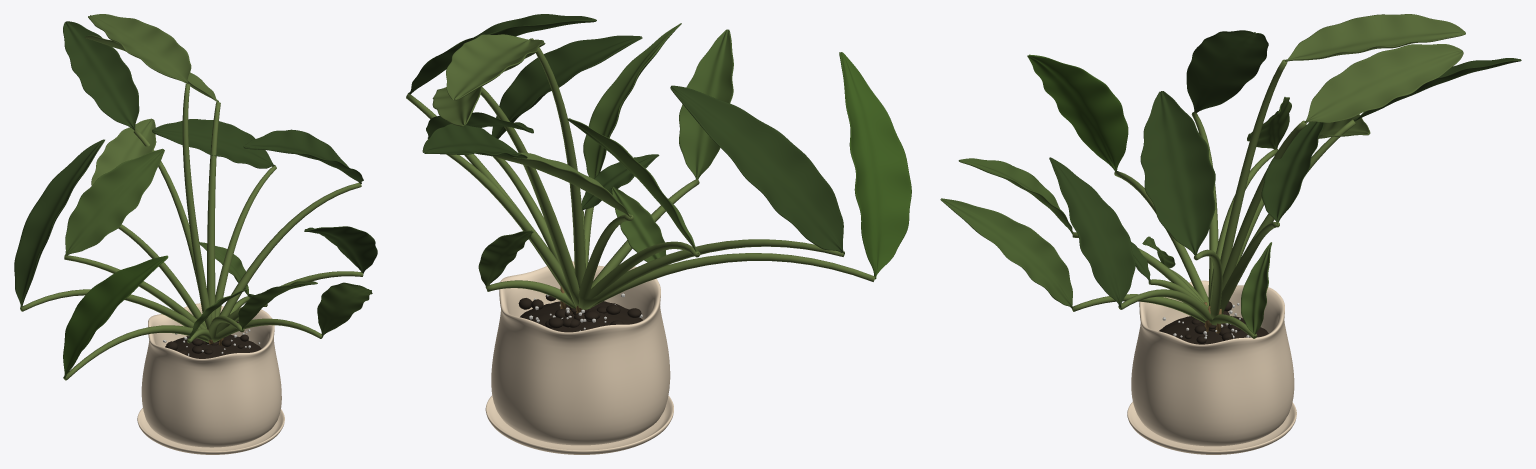
File: plant.glb
The picture shows the model from 3 angles, left to right: view 1: azimuth 30°, elevation 25°; view 2: azimuth 150°, elevation 25°; view 3: azimuth 270°, elevation 25°; orthographic projection. The views are drawn at different scales.
Parts seen in each view (by area): view 1: Pot, Leaf2, Leaf5, Leaf0, Leaf1, Leaf3, Leaf6, Leaf7, Stem3, Leaf11, Leaf9, Leaf8 (+16 smaller); view 2: Pot, Leaf0, Leaf1, Leaf8, Leaf10, Leaf3, Leaf9, Saucer, Stem0, Stem1, Leaf7, Leaf5 (+18 smaller); view 3: Pot, Leaf7, Leaf4, Leaf1, Leaf8, Leaf3, Leaf0, Leaf9, Leaf6, Saucer, Stem3, Leaf10 (+15 smaller).
Part boxes in pixels (bbox=[...]): Pot: bbox=[141, 303, 281, 447]; Leaf2: bbox=[65, 148, 164, 255]; Leaf5: bbox=[63, 21, 139, 130]; Leaf0: bbox=[14, 139, 104, 309]; Leaf1: bbox=[63, 255, 168, 378]; Leaf3: bbox=[88, 14, 191, 83]; Leaf6: bbox=[152, 119, 275, 168]; Leaf7: bbox=[243, 129, 363, 183]; Stem3: bbox=[182, 84, 212, 329]; Leaf11: bbox=[91, 118, 156, 185]; Leaf9: bbox=[317, 282, 372, 336]; Leaf8: bbox=[304, 226, 377, 274]; Pot: bbox=[491, 261, 670, 445]; Leaf0: bbox=[670, 85, 844, 253]; Leaf1: bbox=[839, 52, 911, 279]; Leaf8: bbox=[491, 35, 642, 138]; Leaf10: bbox=[679, 29, 733, 179]; Leaf3: bbox=[446, 34, 545, 100]; Leaf9: bbox=[583, 23, 681, 178]; Saucer: bbox=[485, 395, 673, 454]; Stem0: bbox=[583, 239, 844, 309]; Stem1: bbox=[588, 253, 875, 309]; Leaf7: bbox=[407, 14, 596, 94]; Leaf5: bbox=[422, 123, 527, 158]; Pot: bbox=[1131, 280, 1294, 446]; Leaf7: bbox=[1140, 91, 1215, 257]; Leaf4: bbox=[1304, 44, 1463, 122]; Leaf1: bbox=[1027, 54, 1128, 171]; Leaf8: bbox=[1049, 157, 1135, 307]; Leaf3: bbox=[1285, 14, 1465, 61]; Leaf0: bbox=[1186, 30, 1268, 112]; Leaf9: bbox=[940, 198, 1073, 309]; Leaf6: bbox=[1261, 122, 1323, 224]; Saucer: bbox=[1127, 401, 1296, 454]; Stem3: bbox=[1220, 59, 1287, 275]; Leaf10: bbox=[958, 158, 1073, 234].
Bounding box in the file's own units: 0.5513 × 0.5293 × 0.7055.
